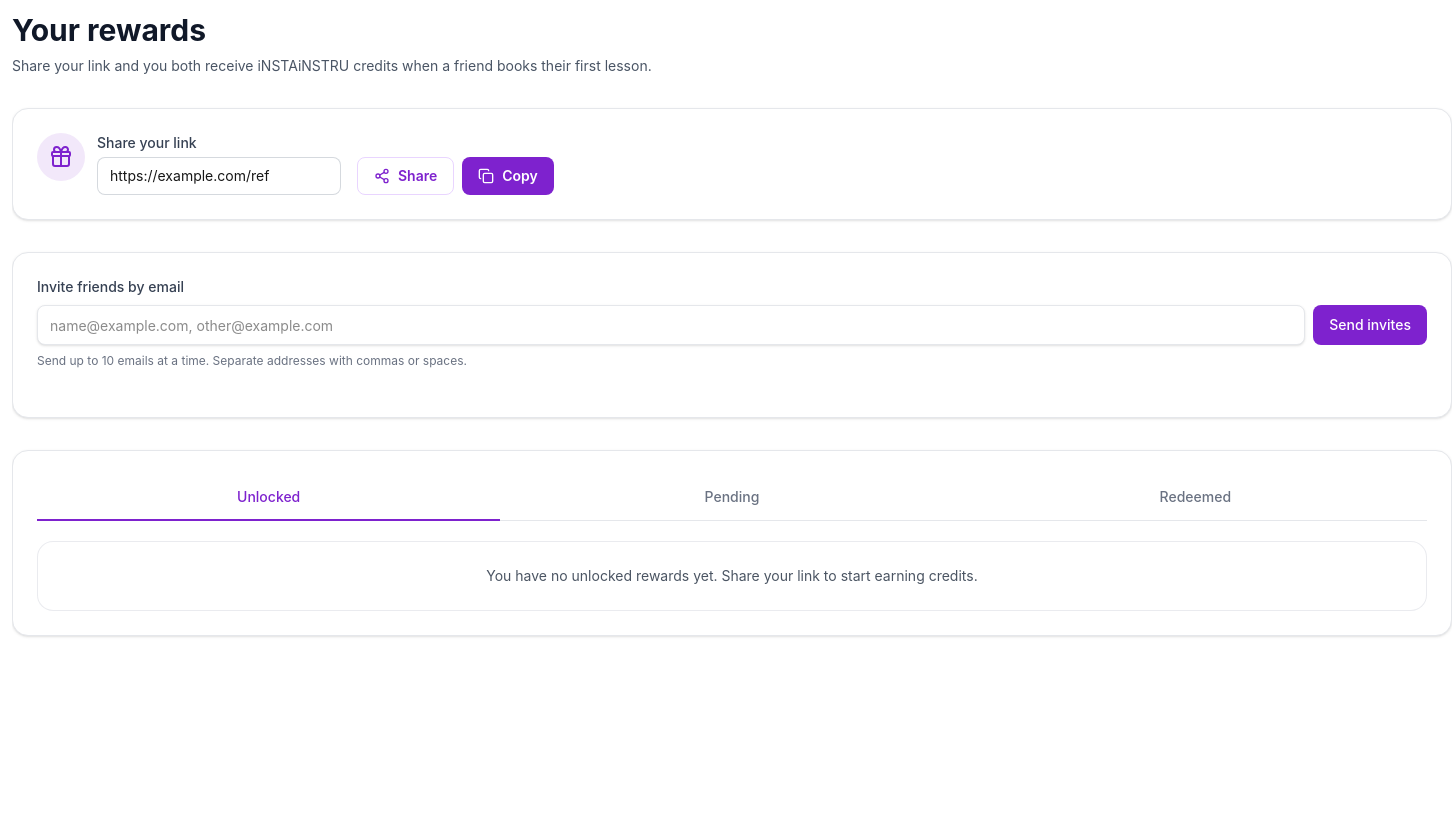
Test: RewardsPanel › renders empty copy per tab
The width and height of the screenshot is (1452, 822).
Expected: the text "no unlocked rewards" is shown, x1=486 y1=567 x2=978 y2=584
Click the tab "Pending": (732, 498) x1=500 y1=475 x2=964 y2=521
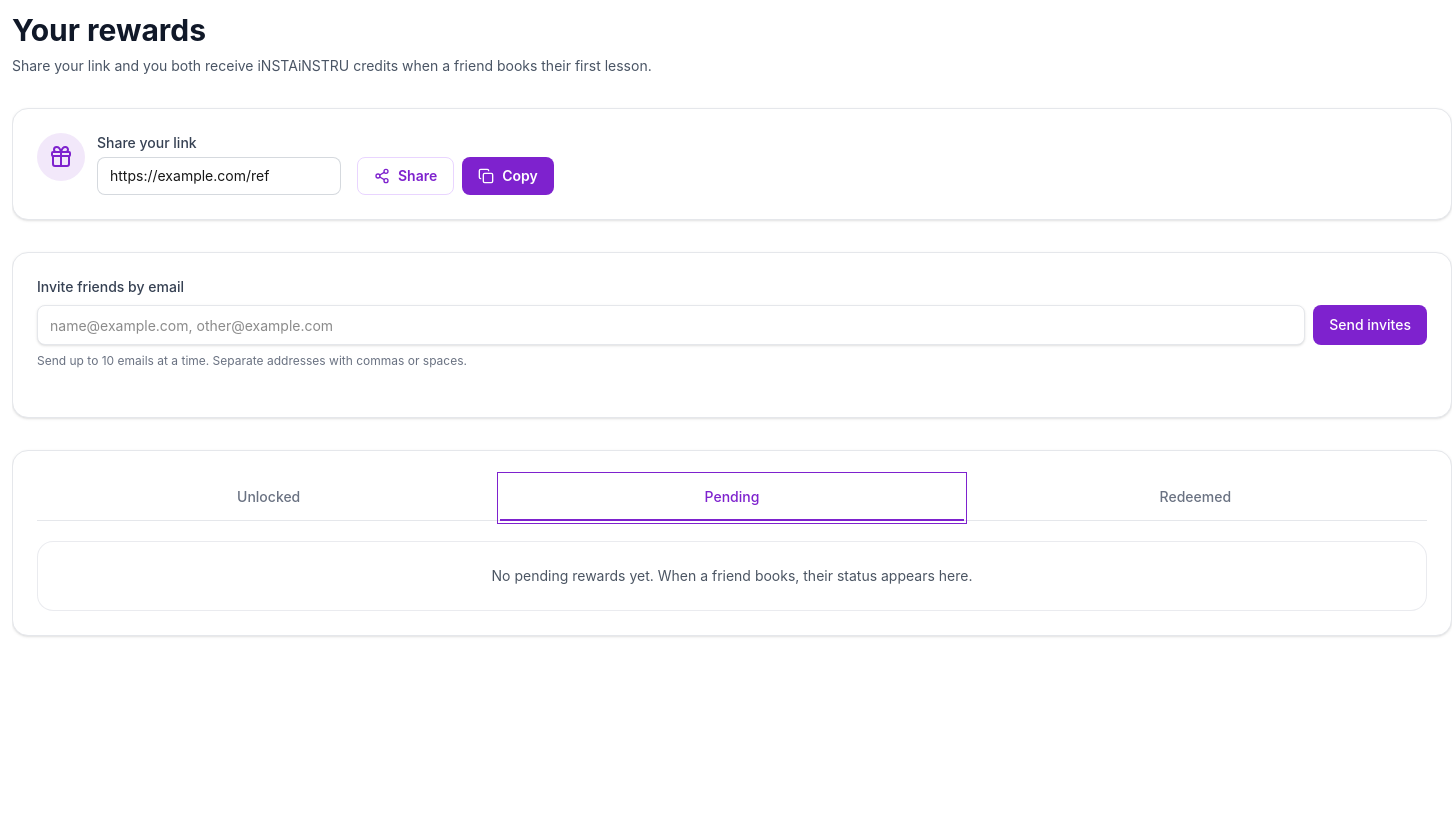
Result: the text "No pending rewards" is shown at x1=492 y1=567 x2=972 y2=584
